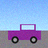vehicle: (8, 24, 41, 43)
